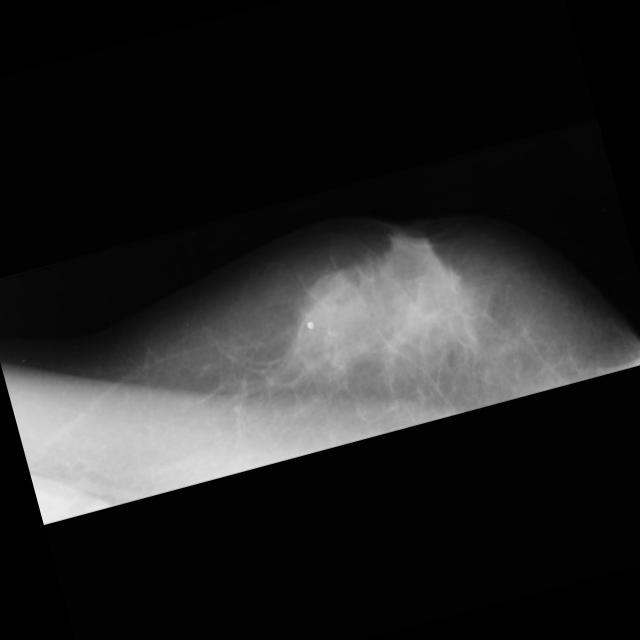CALC: (56, 334, 72, 352)
